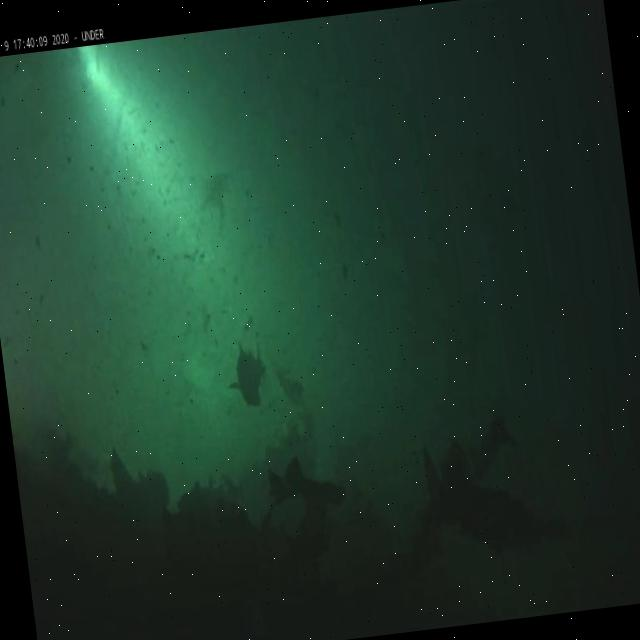fish: (223, 340, 271, 410)
